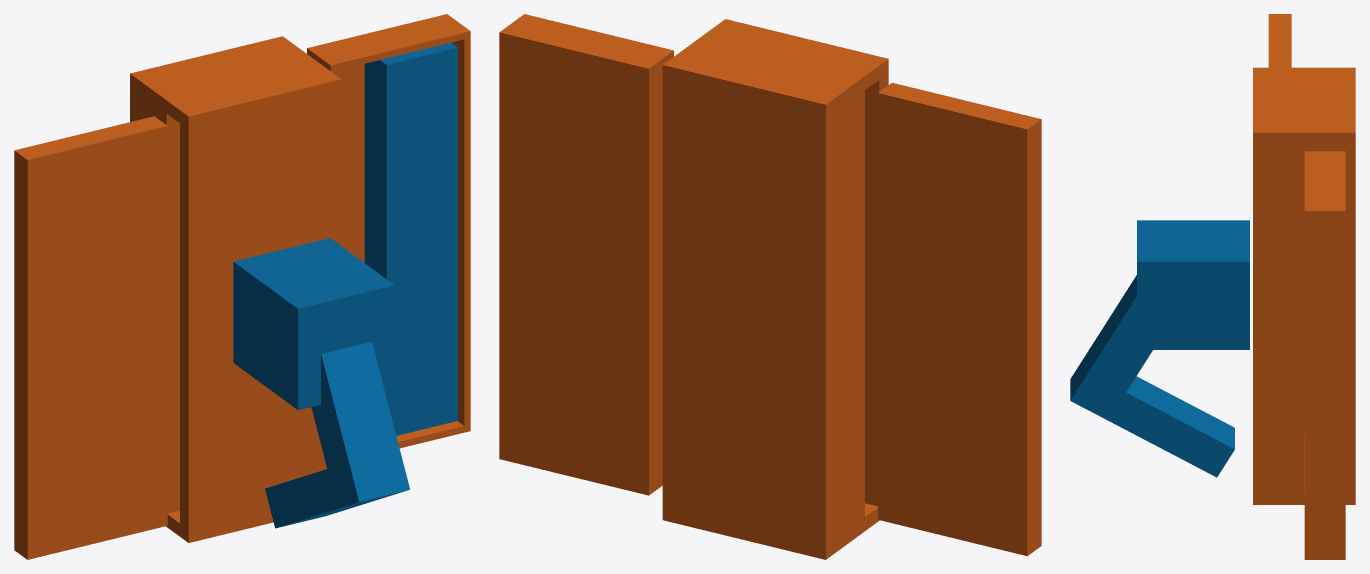
The model's file is mallette_2.gltf.
3 views of the same model, side by side, from view 1: azimuth 30°, elevation 25°; view 2: azimuth 150°, elevation 25°; view 3: azimuth 270°, elevation 25° (orthographic). The views are drawn at different scales.
Visible parts, largest first — view 1: Body1, Body1:2, Bras repos - Part 1, Body1:1, Body1:3; view 2: Body1, Body1:3, Body1:2; view 3: Body1, Bras repos - Part 1, Body1:3, Body1:2.
Boxes of the visible parts, left/top/right/bottom form: Body1: left=130, top=36, right=341, bottom=542; Body1:2: left=14, top=116, right=167, bottom=559; Bras repos - Part 1: left=233, top=238, right=409, bottom=528; Body1:1: left=364, top=42, right=457, bottom=435; Body1:3: left=307, top=14, right=470, bottom=448; Body1: left=662, top=19, right=888, bottom=559; Body1:3: left=499, top=14, right=673, bottom=495; Body1:2: left=878, top=82, right=1041, bottom=556; Body1: left=1253, top=67, right=1355, bottom=504; Bras repos - Part 1: left=1070, top=220, right=1249, bottom=477; Body1:3: left=1304, top=151, right=1345, bottom=559; Body1:2: left=1268, top=14, right=1291, bottom=67.
Size of the model in its own units: 0.9103 by 0.8 by 0.5558.
